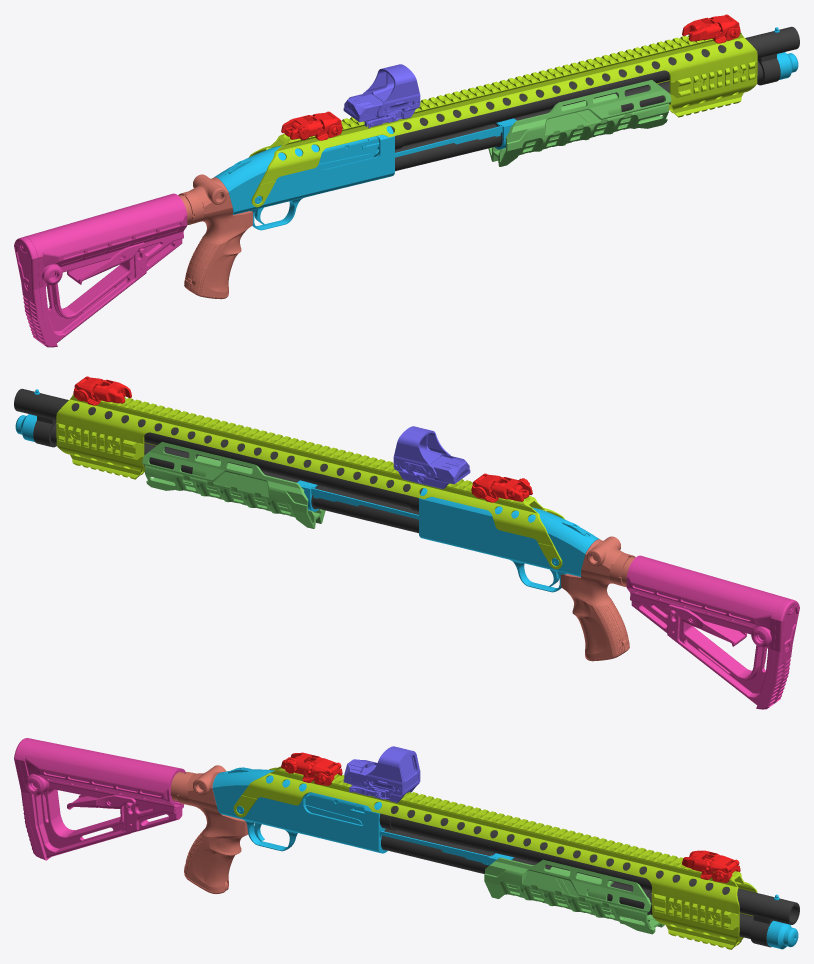
File: shootgun mossberg.fbx
3 views of the same model, one above another, from view 1: azimuth 30°, elevation 25°; view 2: azimuth 150°, elevation 25°; view 3: azimuth 330°, elevation 25° (orthographic).
Parts seen in each view (by area): view 1: quadrail_low, buttosnova_low, handguard_low, barrel_low, bigosnova_low, grip_low, mag_low, butt_low, pricelosn_low, pricel_low, ryka_low, boltaction_low (+2 smaller); view 2: quadrail_low, buttosnova_low, bigosnova_low, handguard_low, barrel_low, grip_low, mag_low, butt_low, pricelosn_low, ryka_low, pricel_low, palka_low (+2 smaller); view 3: quadrail_low, buttosnova_low, handguard_low, barrel_low, bigosnova_low, grip_low, mag_low, pricelosn_low, 8myshka_low (×2), boltaction_low, pricel_low, palka_low (+7 smaller).
Boxes of the visible parts, box(x1,y1,x2,y2) form: quadrail_low: box(249, 32, 757, 207); buttosnova_low: box(26, 193, 187, 346); handguard_low: box(488, 80, 671, 166); barrel_low: box(391, 26, 799, 149); bigosnova_low: box(214, 126, 394, 214); grip_low: box(184, 174, 252, 299); mag_low: box(395, 61, 763, 171); butt_low: box(14, 236, 52, 347); pricelosn_low: box(363, 64, 420, 115); pricel_low: box(344, 73, 413, 119); ryka_low: box(67, 242, 147, 284); boltaction_low: box(319, 136, 379, 163); quadrail_low: box(56, 394, 564, 569); buttosnova_low: box(626, 555, 787, 709); bigosnova_low: box(419, 488, 599, 576); handguard_low: box(142, 442, 325, 528); barrel_low: box(14, 388, 422, 511); grip_low: box(561, 536, 629, 661); mag_low: box(50, 423, 418, 533); butt_low: box(761, 598, 799, 709); pricelosn_low: box(393, 426, 450, 477); ryka_low: box(666, 604, 746, 646); pricel_low: box(419, 435, 469, 481); palka_low: box(300, 485, 418, 519); quadrail_low: box(233, 766, 757, 949); buttosnova_low: box(21, 739, 185, 860); handguard_low: box(484, 857, 664, 934); barrel_low: box(379, 806, 799, 947); bigosnova_low: box(212, 769, 387, 853); grip_low: box(184, 765, 248, 893); mag_low: box(381, 829, 753, 938); pricelosn_low: box(360, 746, 420, 794); 8myshka_low (×2): box(302, 758, 739, 880); boltaction_low: box(305, 792, 364, 824); pricel_low: box(344, 753, 419, 793); palka_low: box(379, 830, 498, 864).
Size of the model in its own units: 983 by 231 by 58.1.
